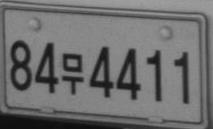1: (144, 49, 169, 102), (172, 50, 194, 104)
4: (88, 45, 115, 98), (115, 47, 142, 100), (33, 41, 59, 94)
8: (8, 39, 33, 90)
무: (60, 52, 84, 95)
